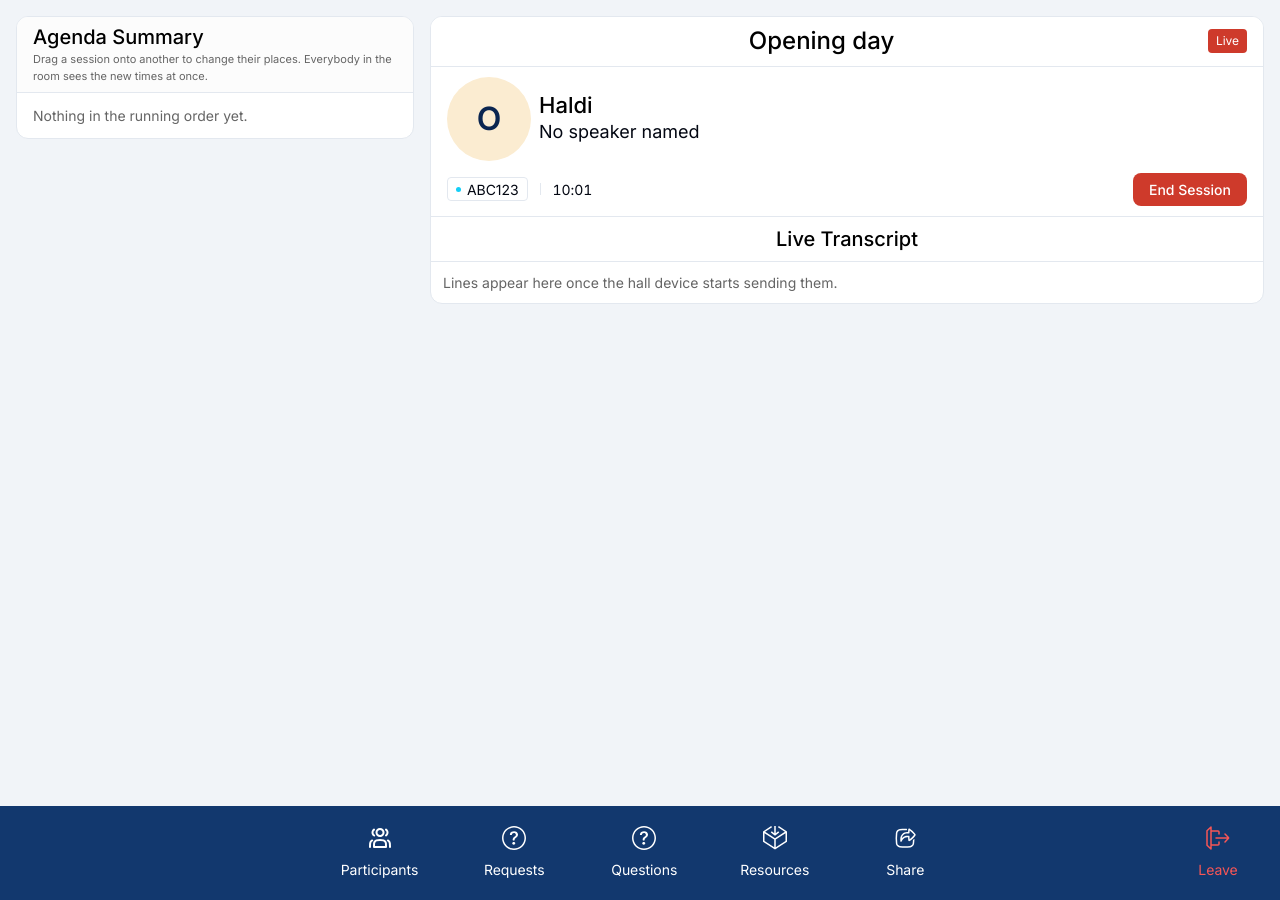
the room as the design lays it out › keeps resource visibility controls out of the live room
The width and height of the screenshot is (1280, 900).
What coordinates should you click on to do the following:
click the button "Resources"
I would click on:
 (775, 853)
Its box is [728,818,821,888].
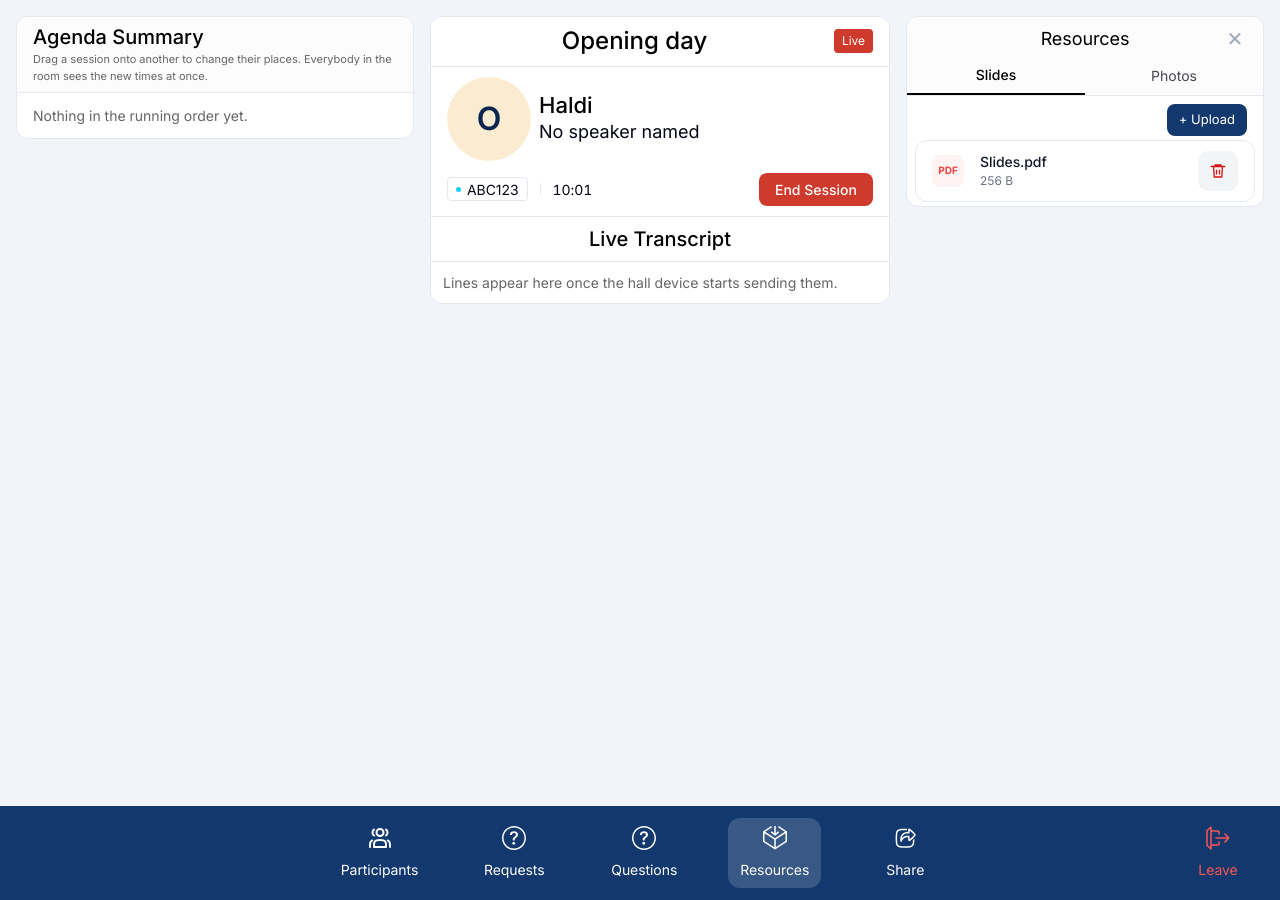
Check: the text "Slides.pdf" is shown, box [980,151,1047,172]
